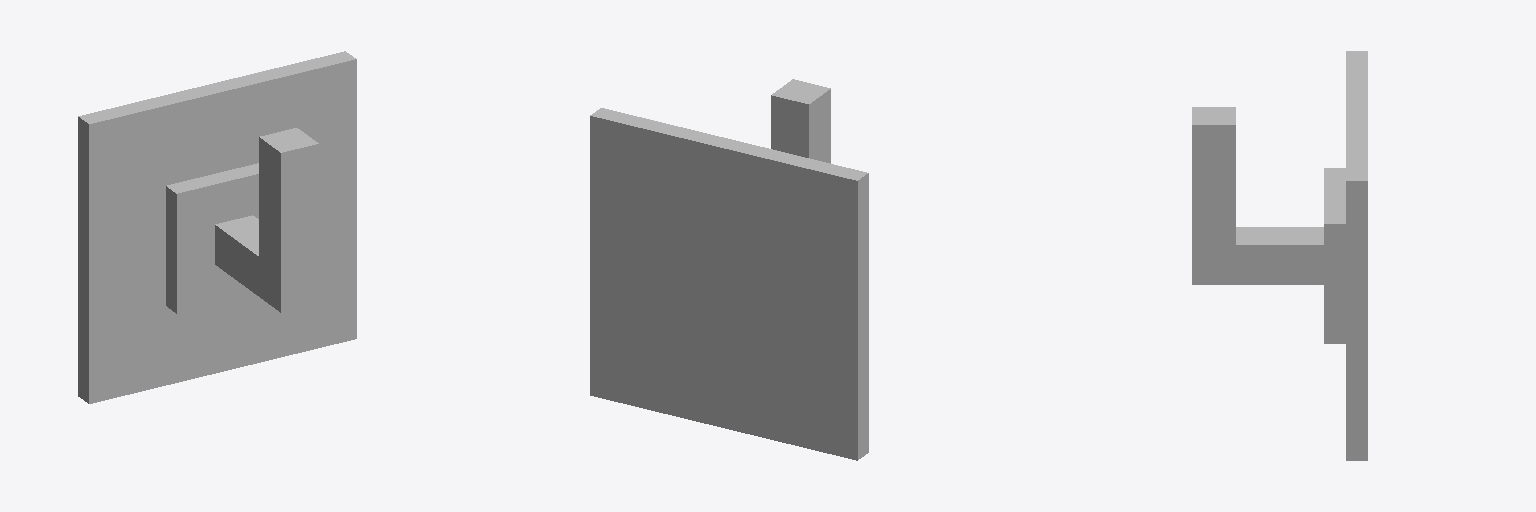
The model's file is GGJ tesla torch.obj.
3 renders of one model, left to right at view 1: azimuth 30°, elevation 25°; view 2: azimuth 150°, elevation 25°; view 3: azimuth 270°, elevation 25°, orthographic.
Visible parts, largest first — view 1: object 1; view 2: object 1; view 3: object 1.
Boxes of the visible parts, box(x1,y1,x2,y2) form: object 1: box(78, 51, 356, 403); object 1: box(590, 79, 868, 460); object 1: box(1192, 51, 1367, 460).
Bounding box in the file's own units: 1.4 × 1.4 × 0.8.